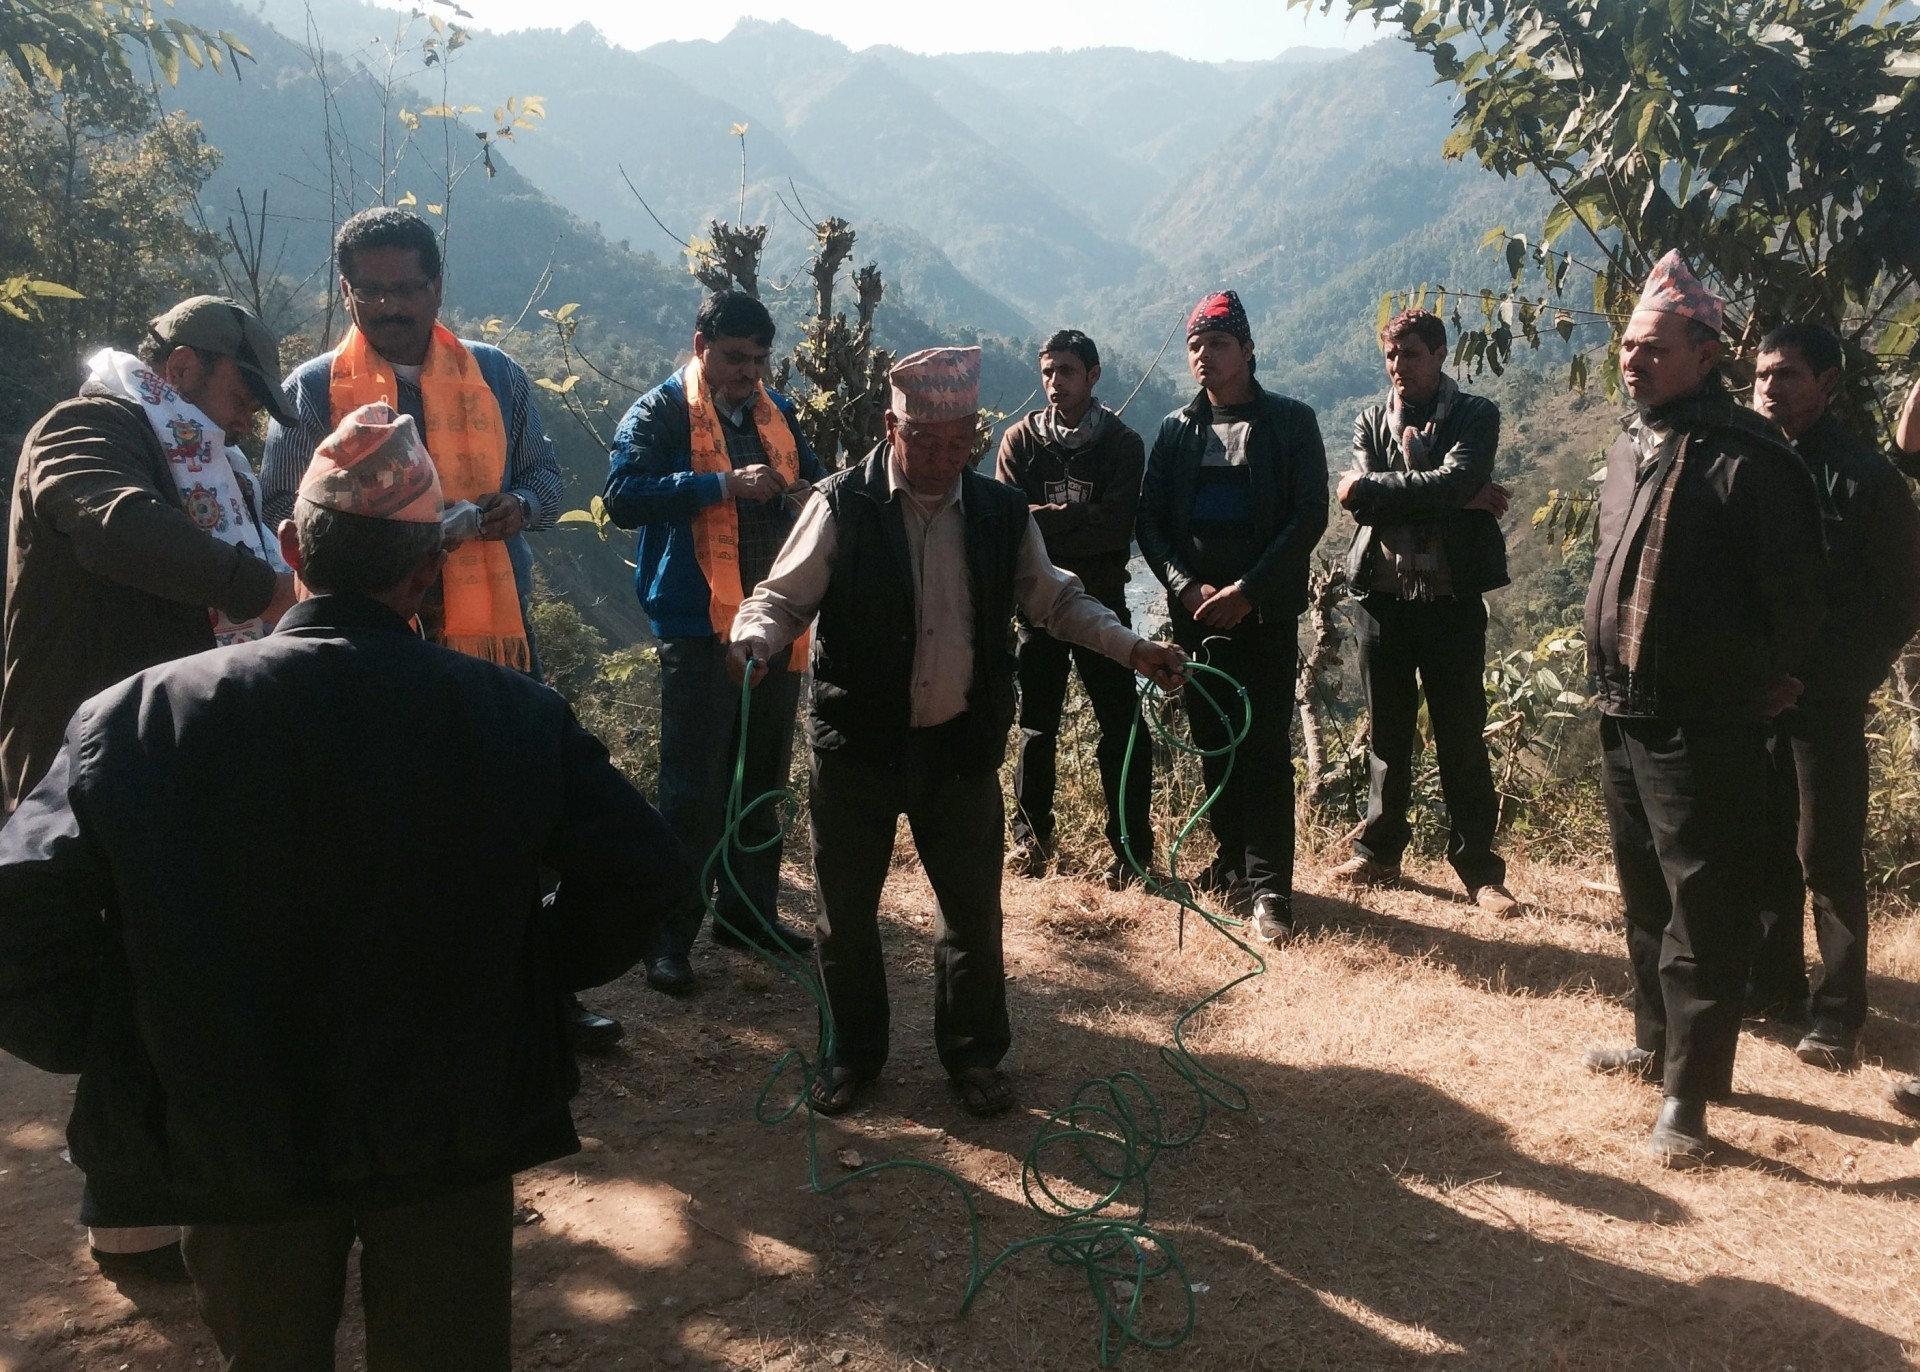human: (10, 397, 691, 1372), (713, 343, 1190, 1109), (1557, 251, 1797, 1176), (251, 191, 621, 707), (600, 251, 840, 1003), (7, 287, 260, 880), (1137, 290, 1334, 950), (1333, 293, 1523, 899), (984, 324, 1177, 877)
